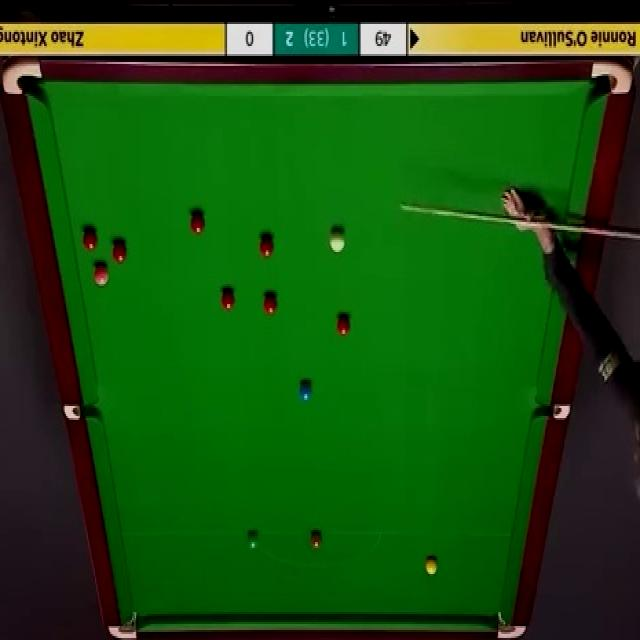blue-ball: (299, 378, 312, 404)
brown-ball: (309, 531, 323, 549)
green-ball: (245, 530, 260, 552)
pink-ball: (93, 263, 110, 287)
red-ball: (258, 234, 274, 260), (113, 239, 128, 265), (263, 290, 278, 316), (220, 286, 235, 311), (190, 212, 206, 234), (82, 227, 96, 251), (337, 316, 351, 337)
white-ball: (329, 228, 347, 255)
yellow-ball: (425, 555, 437, 574)
